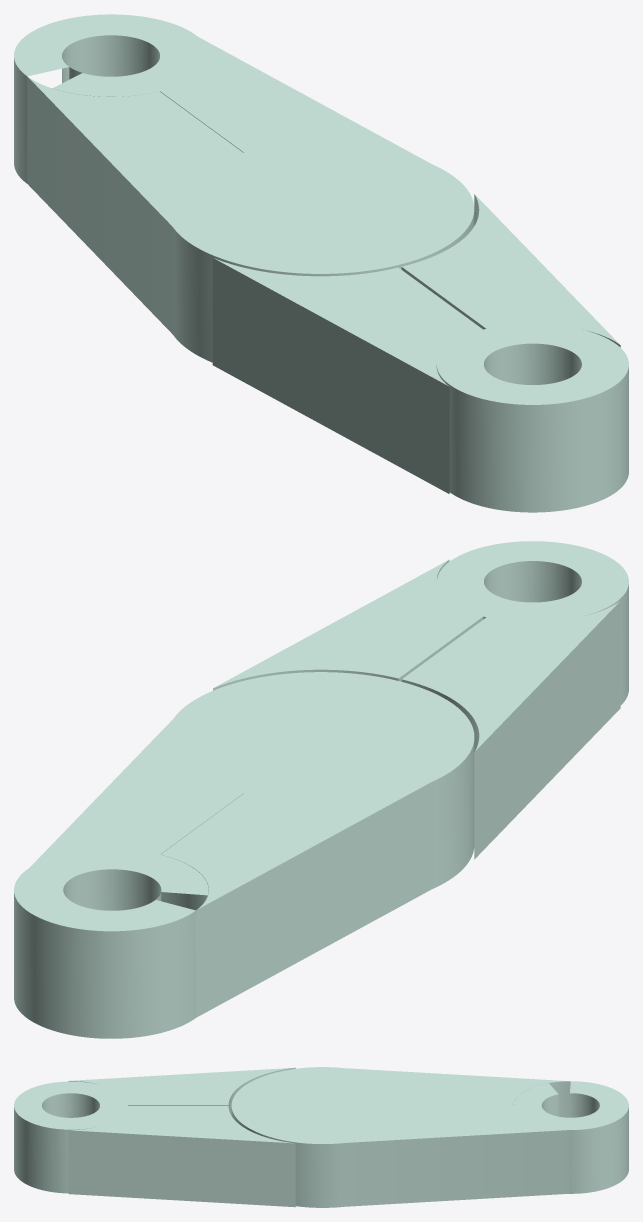
The picture shows the model from 3 angles, top to bottom: view 1: azimuth 30°, elevation 25°; view 2: azimuth 150°, elevation 25°; view 3: azimuth 270°, elevation 25°; orthographic projection. The views are drawn at different scales.
Visible parts, largest first — view 1: Renderer Node; view 2: Renderer Node; view 3: Renderer Node.
Boxes of the visible parts, bbox=[...] form: Renderer Node: bbox=[14, 14, 628, 512]; Renderer Node: bbox=[14, 541, 628, 1038]; Renderer Node: bbox=[14, 1067, 628, 1207].
Size of the model in its own units: 0.4453 by 0.1719 by 1.5.
